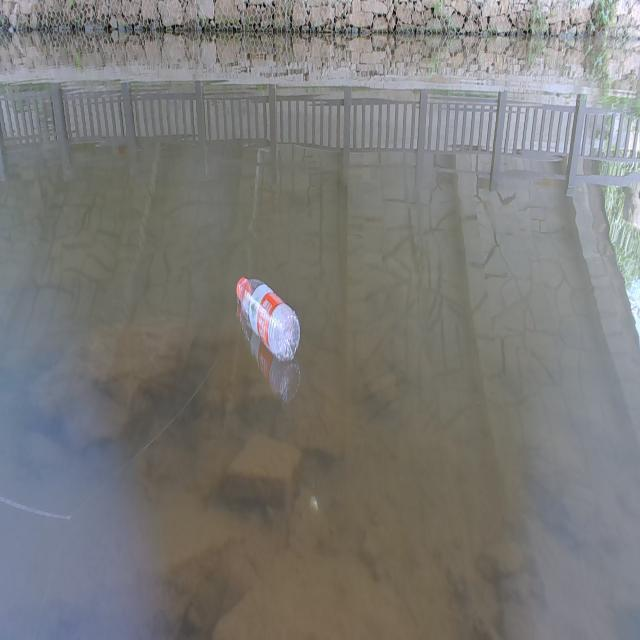bottle: (217, 240, 310, 384)
